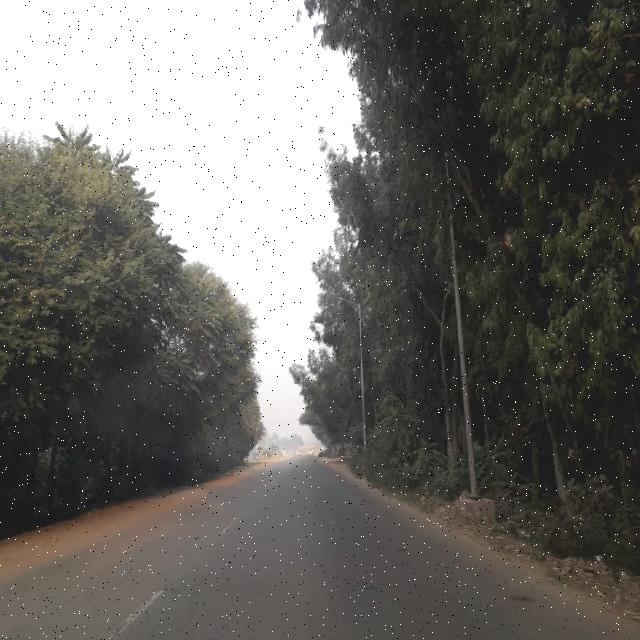D44: (108, 584, 164, 637), (203, 501, 256, 542)
